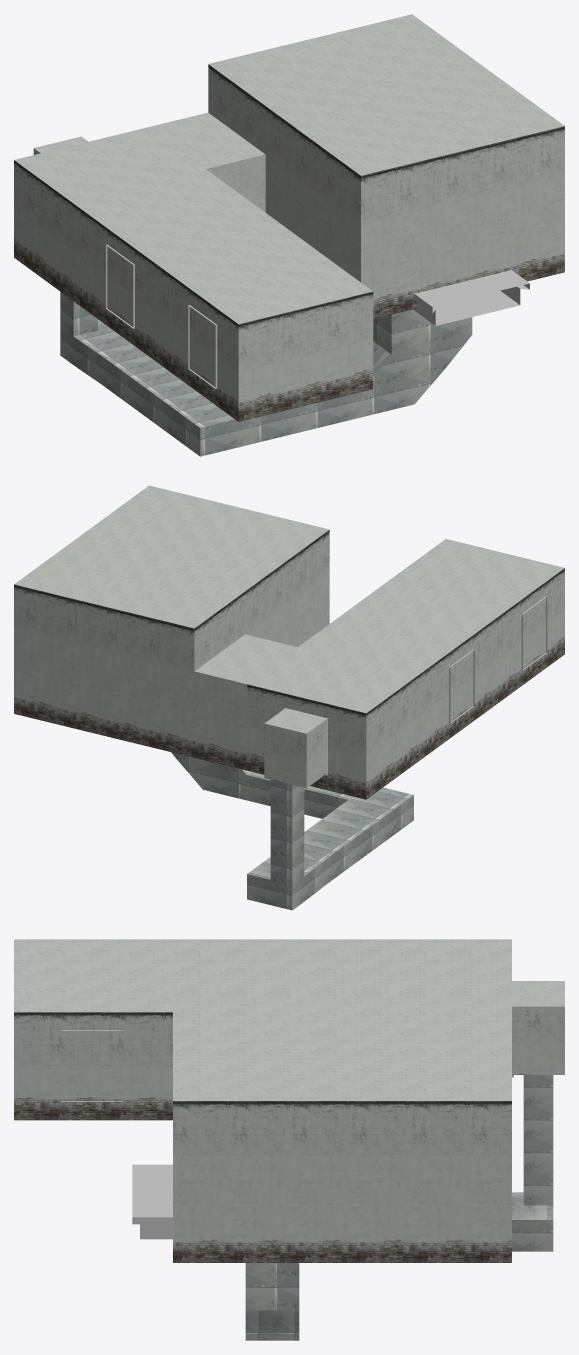
The model's file is map.obj.
The picture shows the model from 3 angles, top to bottom: view 1: azimuth 30°, elevation 25°; view 2: azimuth 150°, elevation 25°; view 3: azimuth 270°, elevation 25°; orthographic projection. The views are drawn at different scales.
Visible parts, largest first — view 1: Plane, Cube.006; view 2: Plane; view 3: Plane, Cube.006.
Part boxes in pixels (bbox=[...]): Plane: bbox=[14, 14, 564, 456]; Cube.006: bbox=[413, 270, 529, 325]; Plane: bbox=[14, 485, 564, 910]; Plane: bbox=[14, 939, 564, 1340]; Cube.006: bbox=[132, 1164, 172, 1239].
Bounding box in the file's own units: 28.43 × 18.6 × 30.61.
